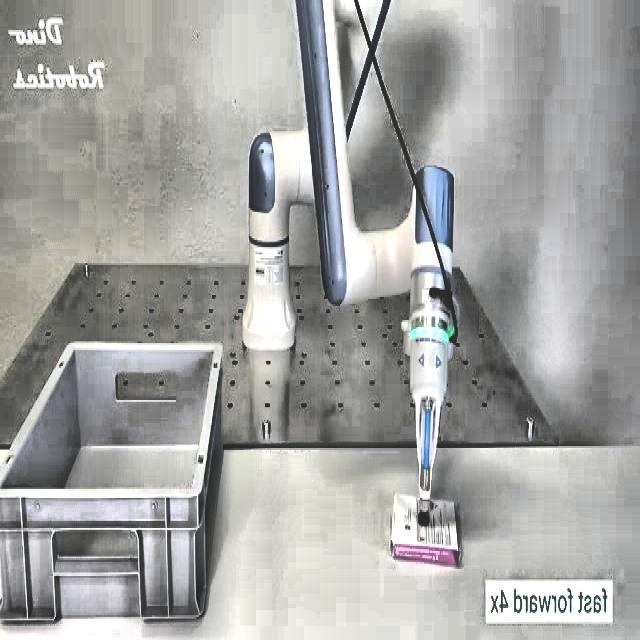robot: (242, 0, 463, 564)
